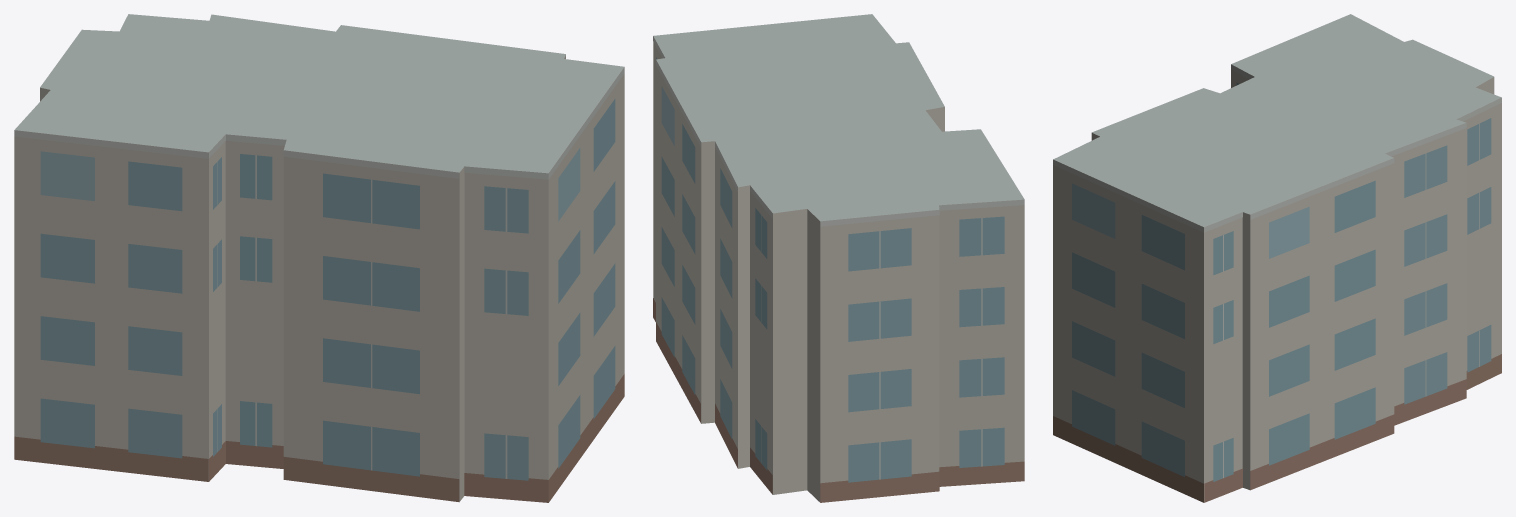
File: survey-upis-32644114.glb
3 renders of one model, left to right at view 1: azimuth 30°, elevation 25°; view 2: azimuth 150°, elevation 25°; view 3: azimuth 270°, elevation 25°, orthographic. The views are drawn at different scales.
Parts seen in each view (by area): view 1: survey-upis-32644114.tmp; view 2: survey-upis-32644114.tmp; view 3: survey-upis-32644114.tmp.
Part boxes in pixels (box(x1,y1,x2,y2)): survey-upis-32644114.tmp: box(14, 14, 624, 502); survey-upis-32644114.tmp: box(653, 14, 1024, 502); survey-upis-32644114.tmp: box(1053, 14, 1501, 502).
Size of the model in its own units: 21.09 by 12.7 by 18.75.
